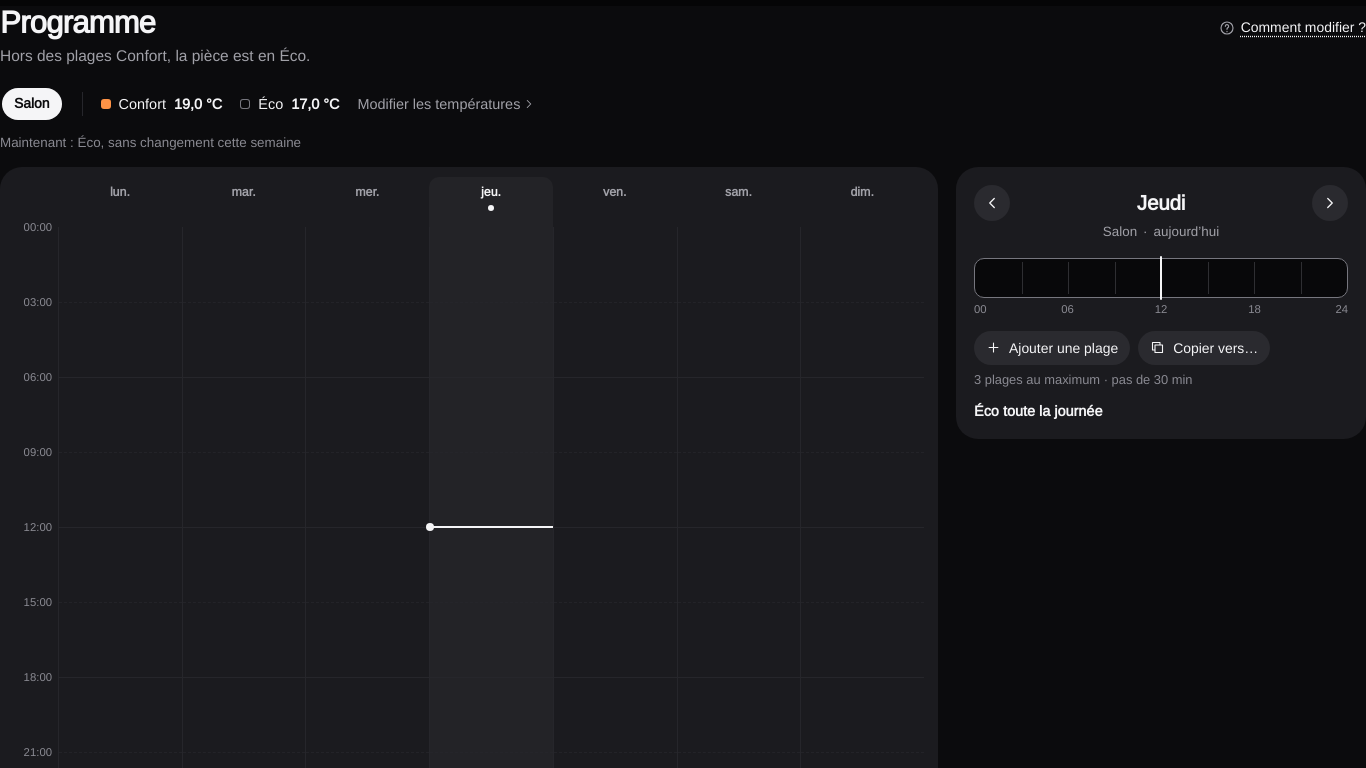
Scenario: /schedule: what the page says › « Copier vers… » copies the day onto the chosen days of the draft only; the copies pulse and are announced
Click the button with aria-label "Lundi," at (120, 202), box [58,177,182,227]
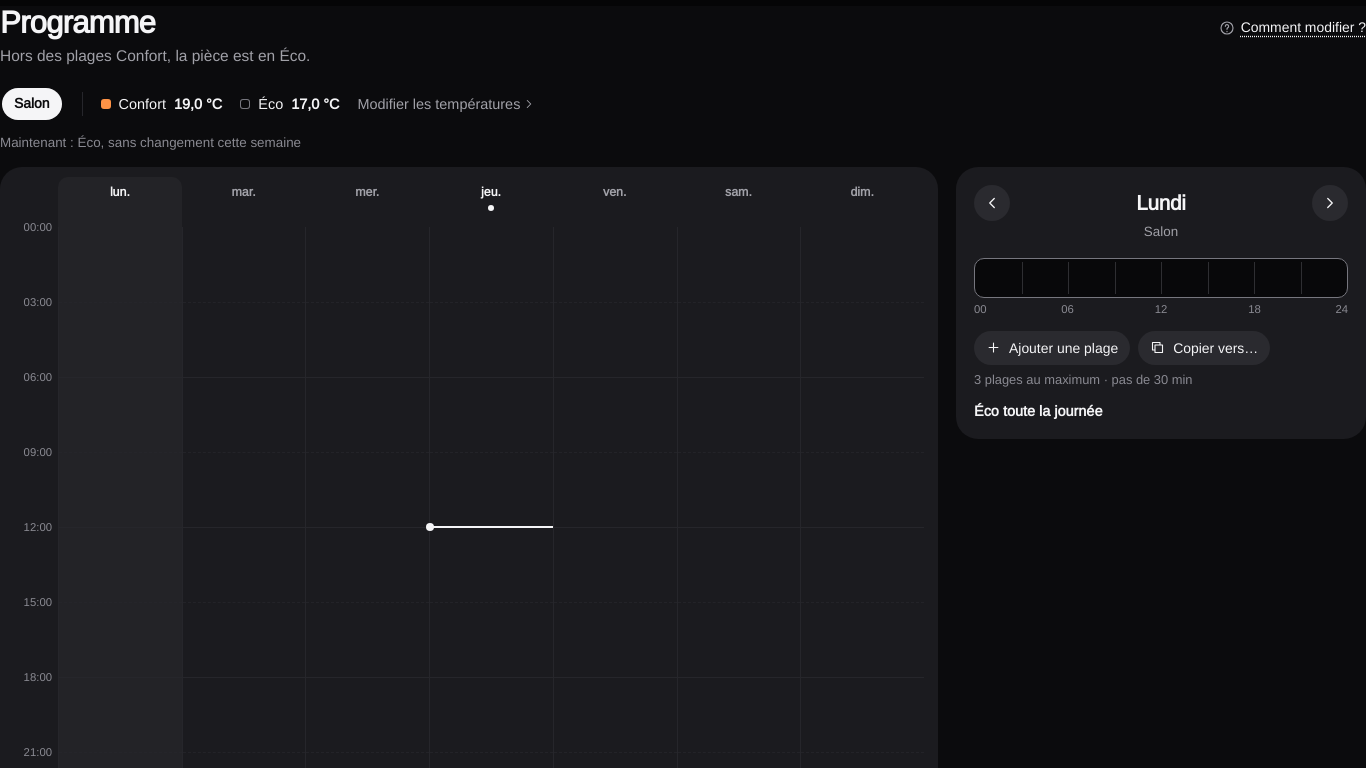
Click the button with aria-label "Ajouter une plage le Lundi" at (1052, 348), box [974,331,1130,365]
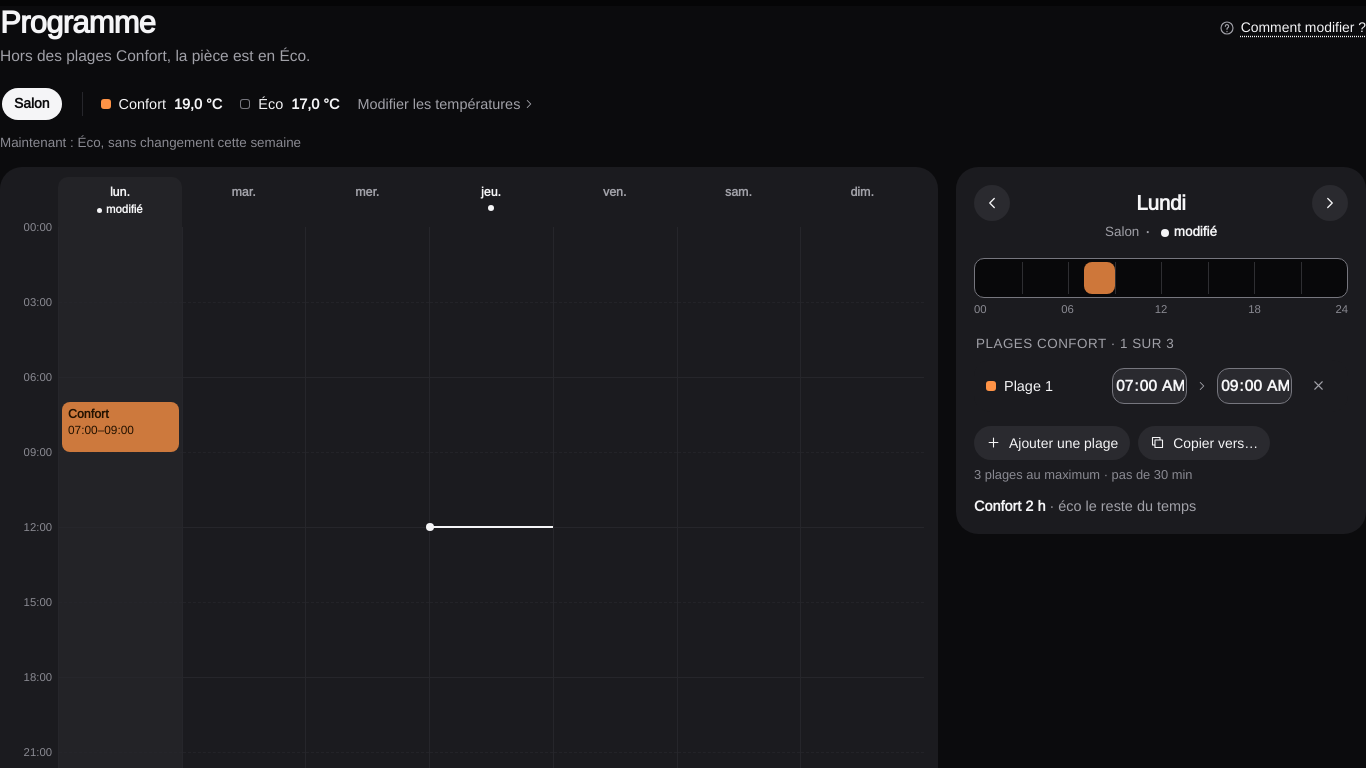
Click the button "Copier vers…" at (1204, 443), box [1138,426,1270,460]
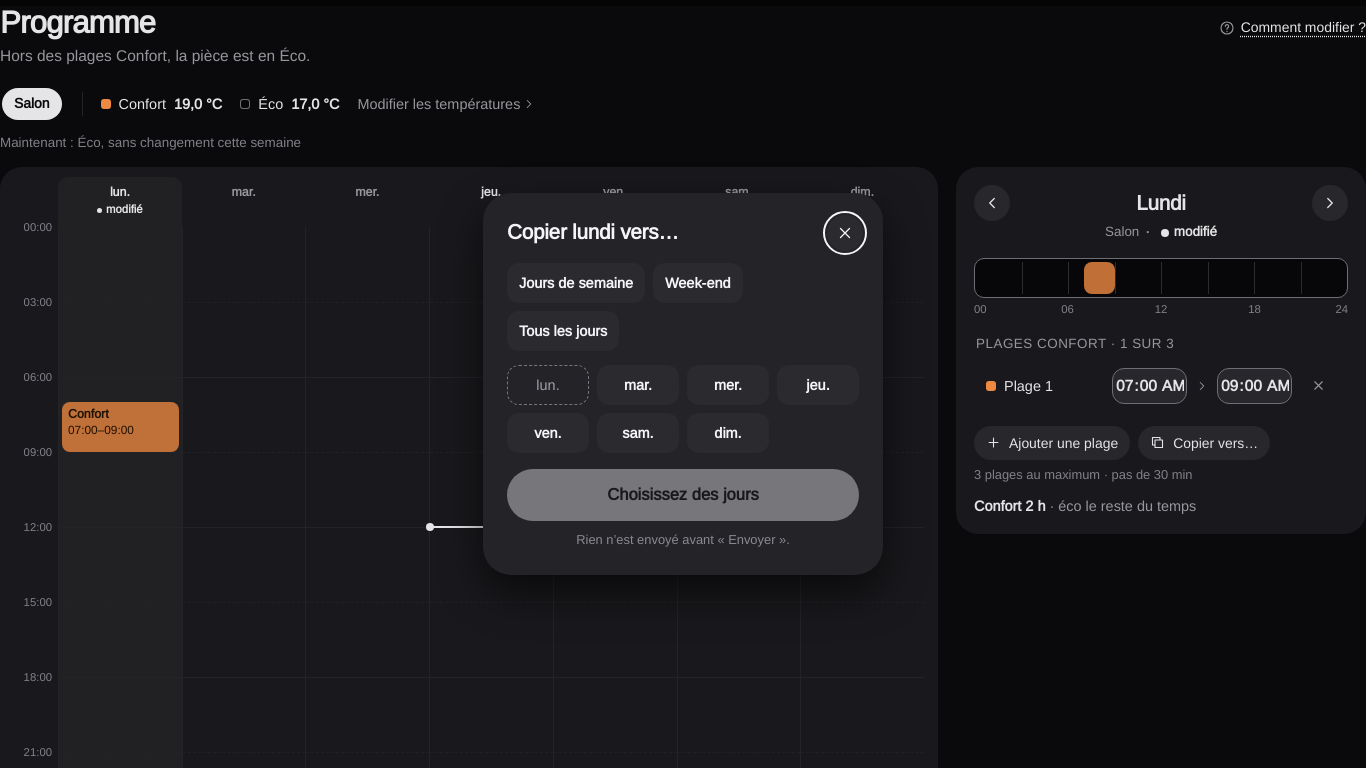
Check: the dialog "Copier lundi vers…" is shown, box [483,193,883,575]
Click the button "Jours de semaine" at (576, 283), box [507,263,645,303]
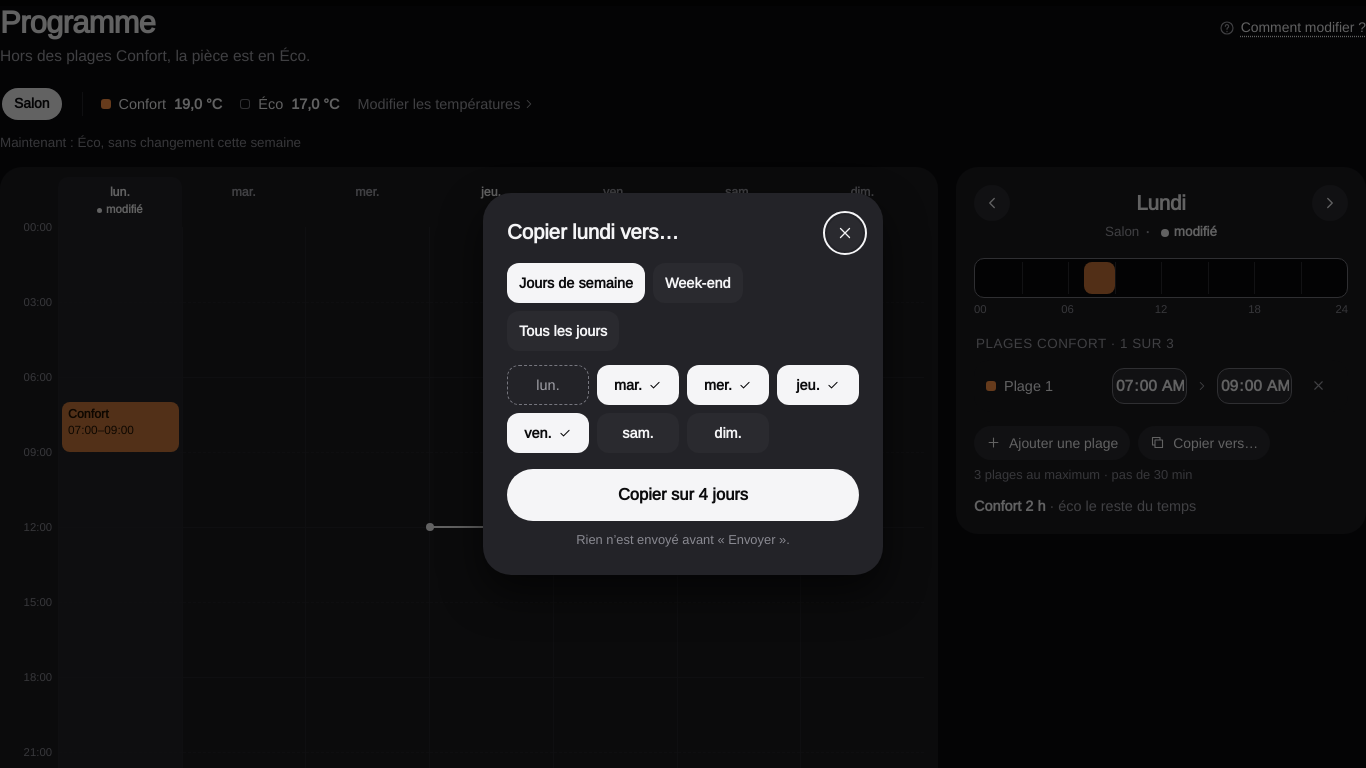
Click the button "Copier sur 4 jours" at (683, 495), box [507,469,859,521]
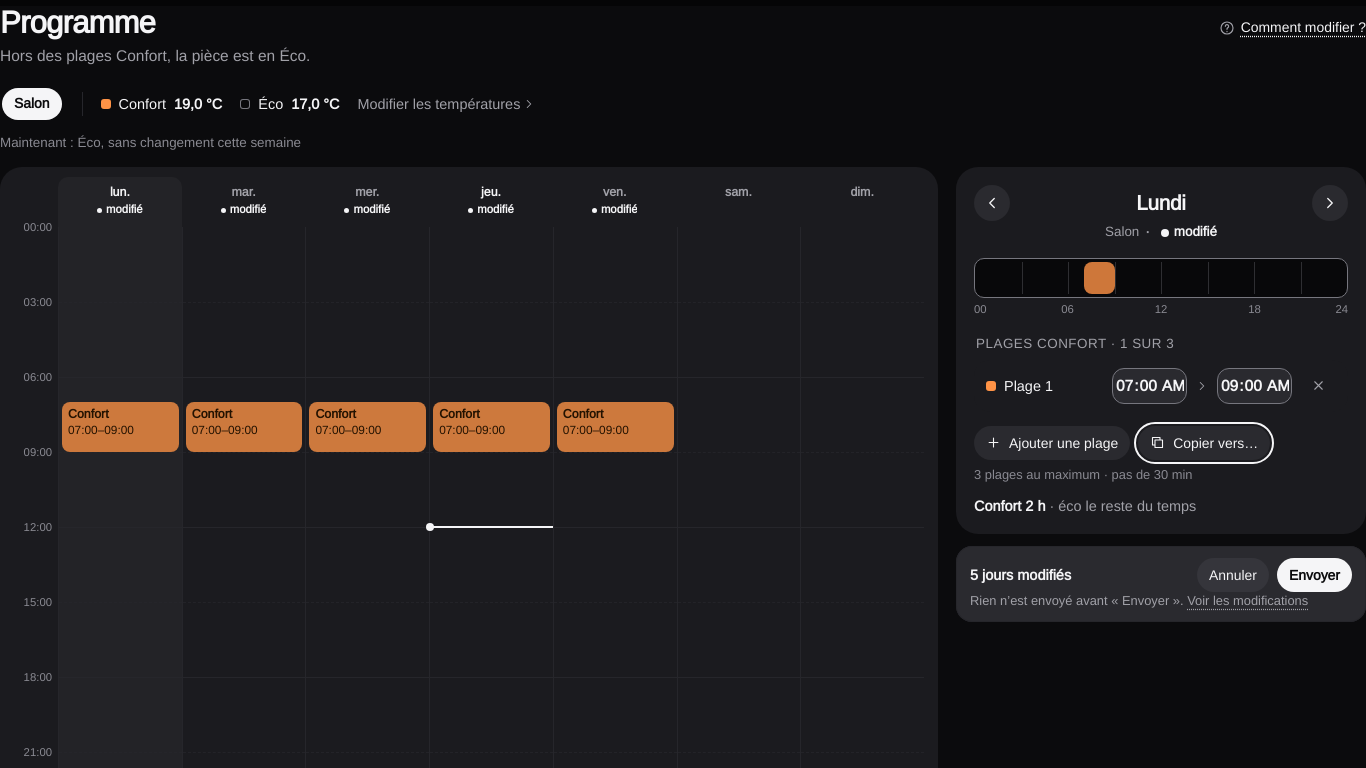
Check: the element with class "sendbar" shows "5 jours modifiés", box [970,566,1071,584]
